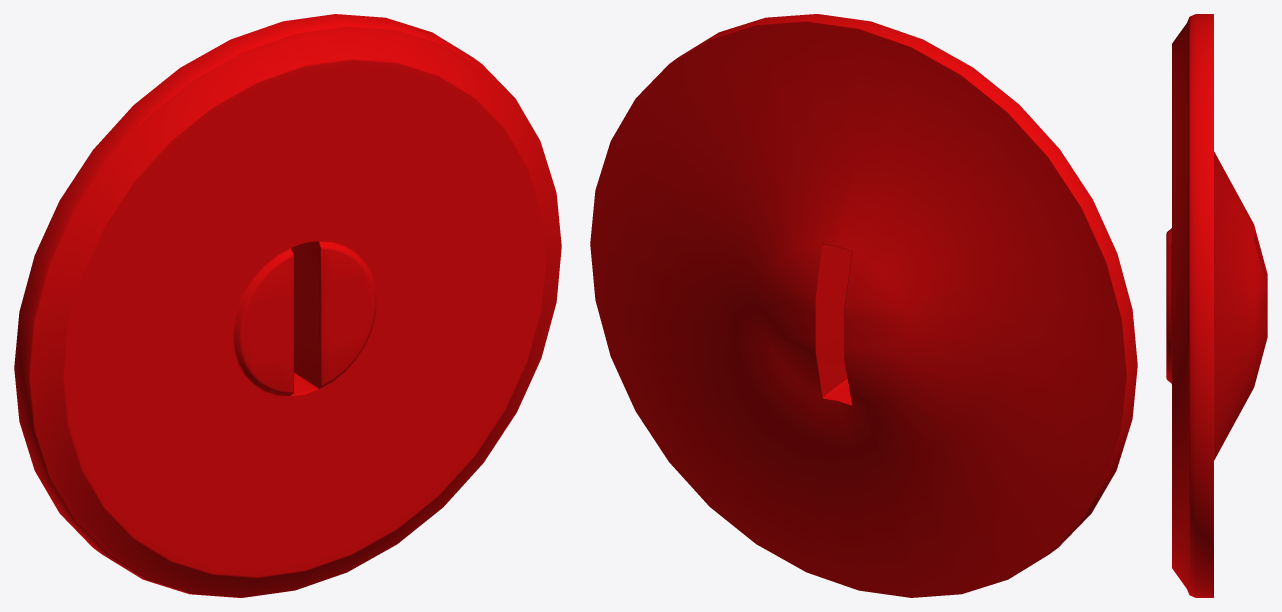
The model's file is SM_keyhole.glb.
The picture shows the model from 3 angles, left to right: view 1: azimuth 30°, elevation 25°; view 2: azimuth 150°, elevation 25°; view 3: azimuth 270°, elevation 25°; orthographic projection. The views are drawn at different scales.
Visible parts, largest first — view 1: SM_keyhole; view 2: SM_keyhole; view 3: SM_keyhole.
Boxes of the visible parts, x1,y1,x2,y2 form: SM_keyhole: [14, 14, 561, 597]; SM_keyhole: [590, 14, 1137, 597]; SM_keyhole: [1166, 14, 1267, 597].
Size of the model in its own units: 5.88 by 5.88 by 1.02.
